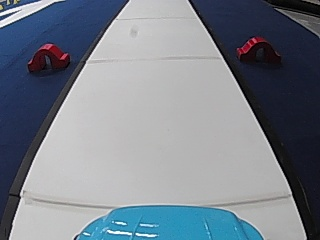bridge: (233, 32, 281, 64), (24, 40, 69, 73)
